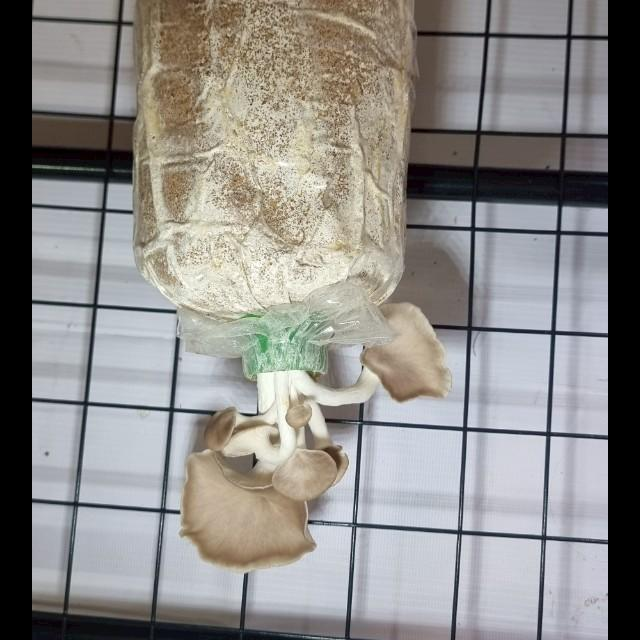normal: (164, 292, 458, 566)
